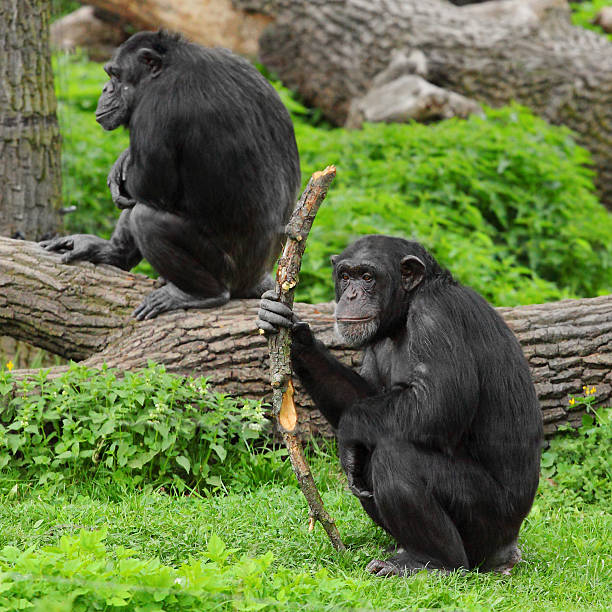chimpanzee: (321, 223, 437, 384), (80, 17, 181, 144)
